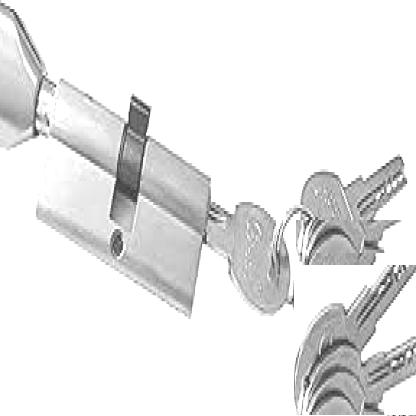key: (294, 265, 416, 415), (316, 253, 416, 356), (215, 188, 294, 312), (296, 220, 416, 298), (301, 160, 402, 238)
